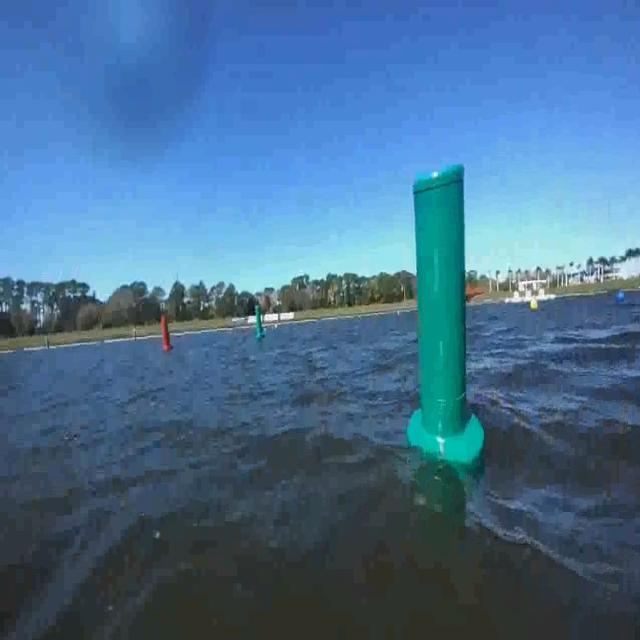blue-buoy: (617, 288, 628, 304)
green-column-buoy: (407, 164, 485, 460), (256, 307, 268, 342)
red-column-buoy: (161, 314, 175, 352)
yellow-buoy: (530, 299, 539, 314)
